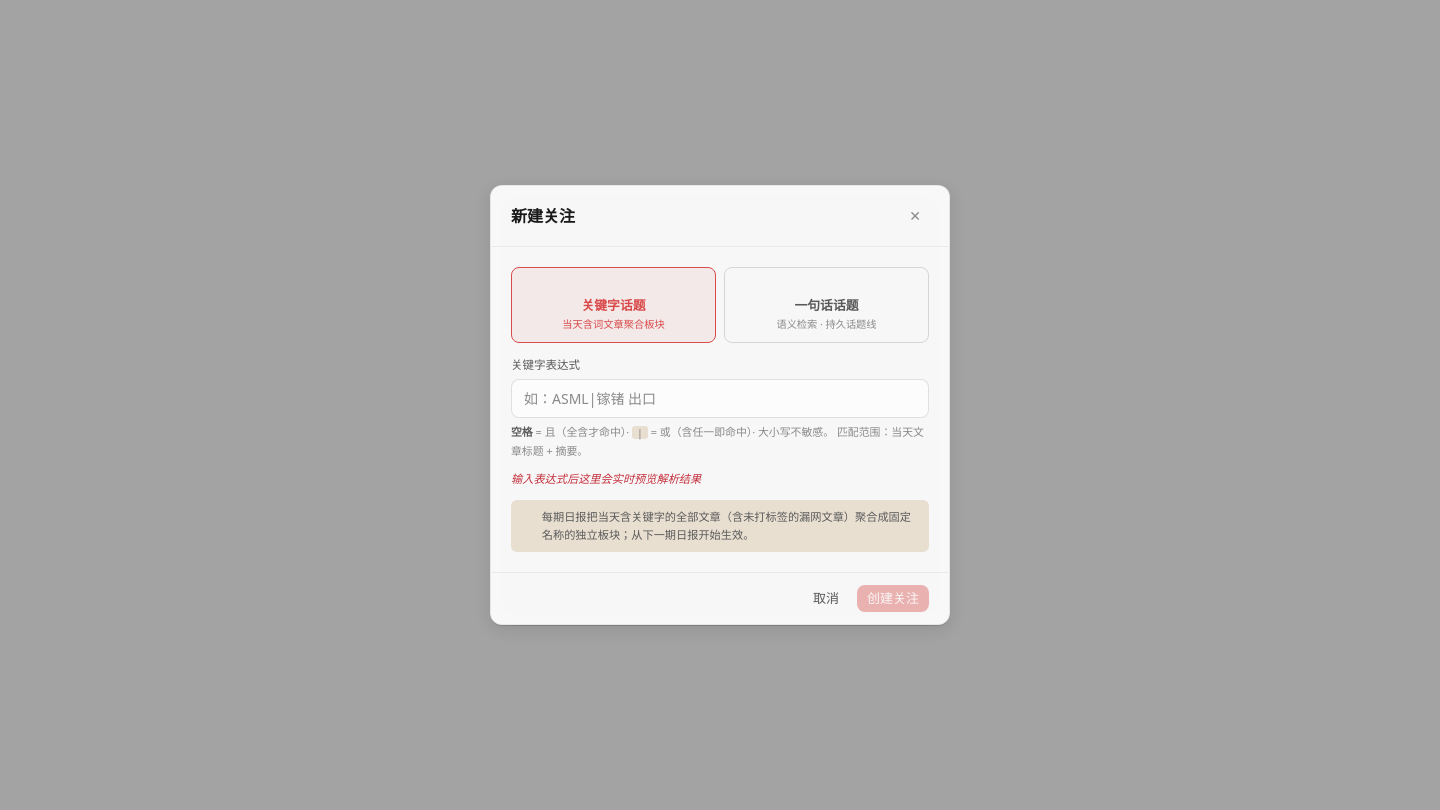
TopicWatchCreateDialog — 类型双选（物化轨） › 切到 sentence_topic：话题名 + 检索句输入 + 生效说明
Step 1. Click the radio button with test id "watch-type-sentence_topic" → [826, 305], box top-left (724, 267), bottom-right (929, 343)
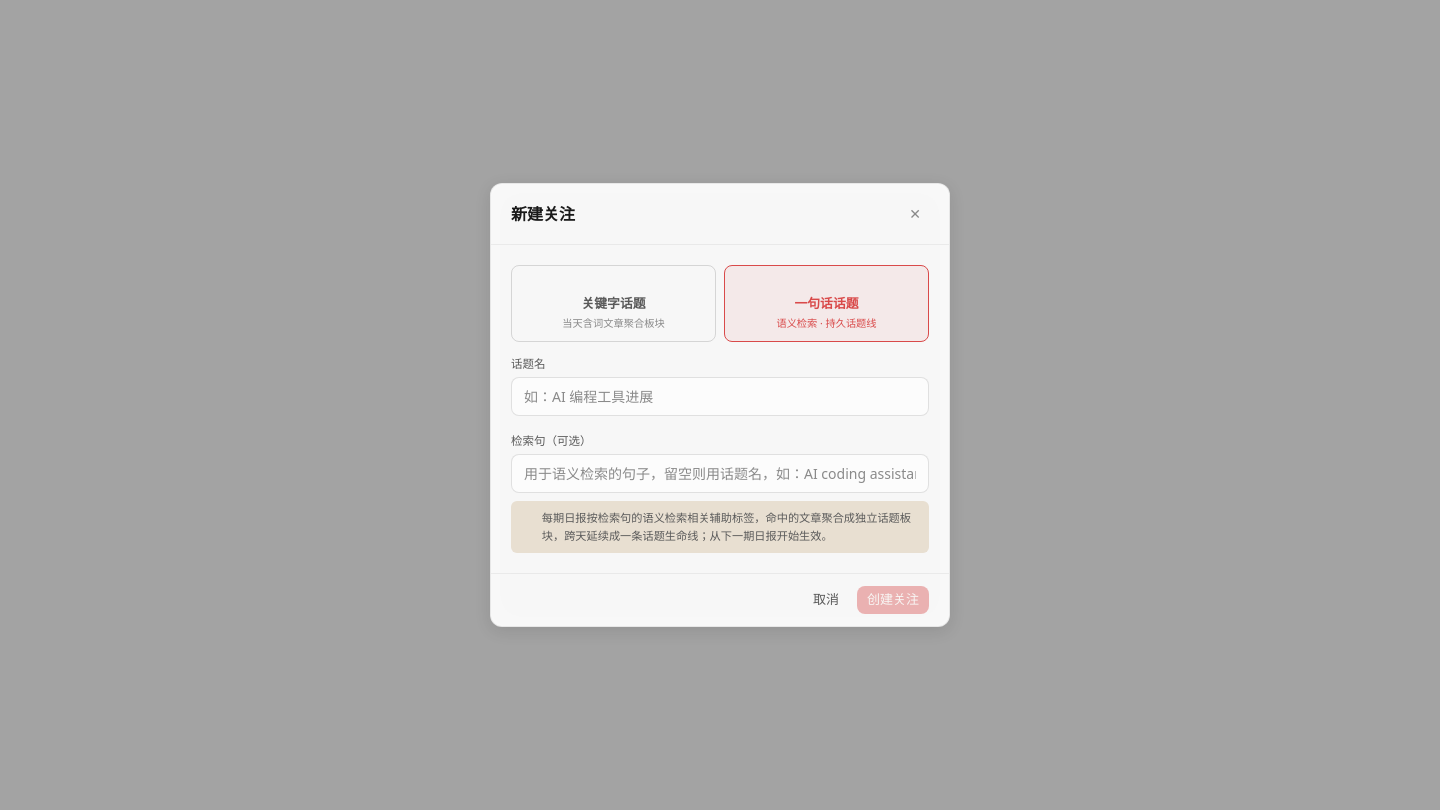
Now the element with test id "watch-sentence-name-input" is shown, box top-left (511, 377), bottom-right (929, 416)
Now the element with test id "watch-sentence-query-input" is shown, box top-left (511, 454), bottom-right (929, 493)
Now the element with class "app-dialog" shows "跨天延续成一条话题生命线", box top-left (542, 510), bottom-right (911, 543)
